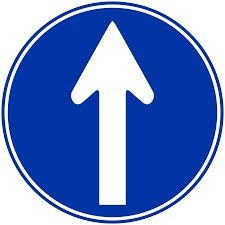Direction_sign: (2, 1, 224, 222)
